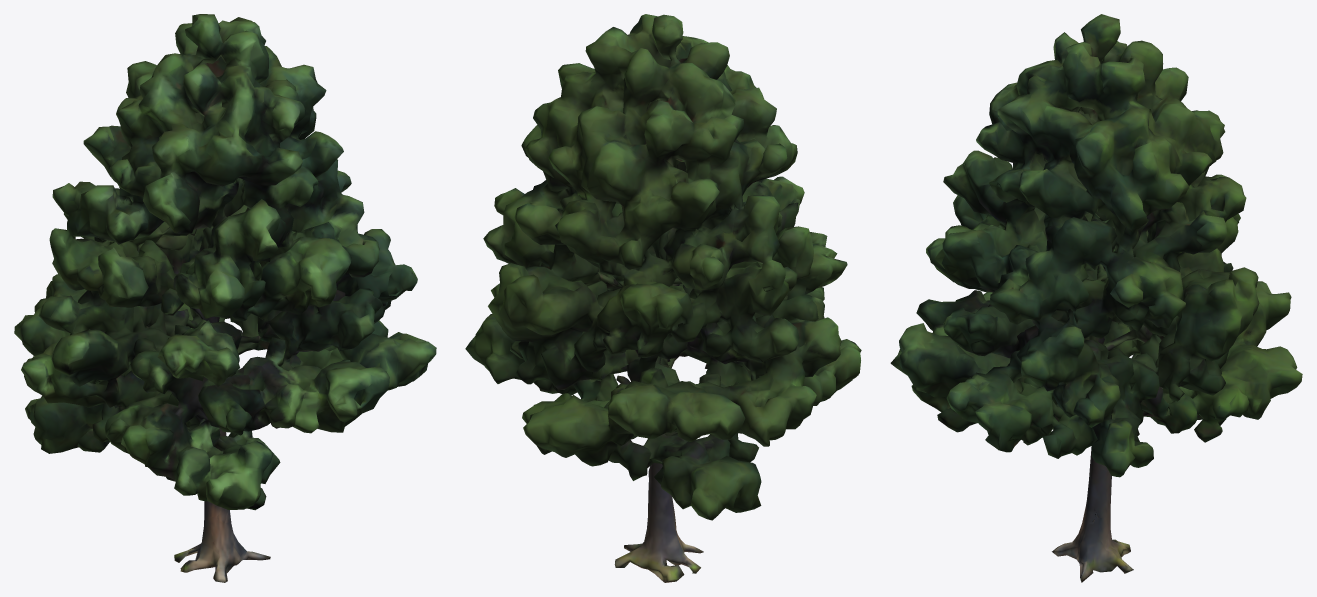
Rendered from AI_OpenCrownPineTree.fbx.
3 views of the same model, side by side, from view 1: azimuth 30°, elevation 25°; view 2: azimuth 150°, elevation 25°; view 3: azimuth 270°, elevation 25° (orthographic). The views are drawn at different scales.
Parts seen in each view (by area): view 1: Mesh_0; view 2: Mesh_0; view 3: Mesh_0.
Part boxes in pixels (bbox=[...]): Mesh_0: bbox=[14, 14, 436, 582]; Mesh_0: bbox=[465, 14, 861, 582]; Mesh_0: bbox=[890, 14, 1302, 582].
Size of the model in its own units: 136 by 200 by 139.
1 material, 1 textured.
